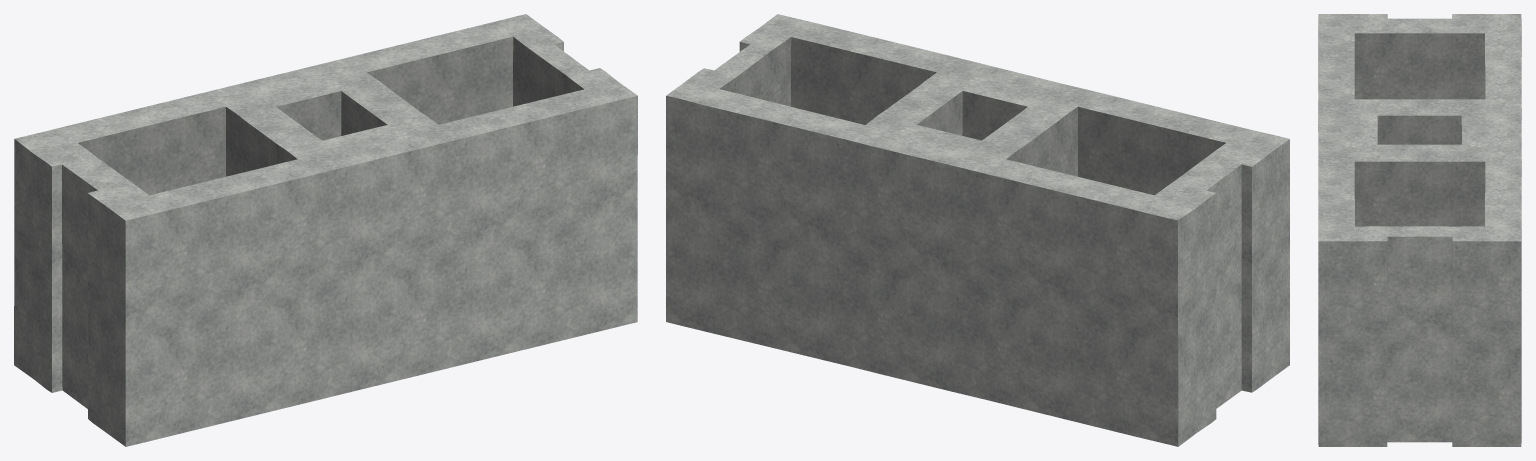
The model's file is cement-block-large-small-large-3-void-bigger.glb.
3 renders of one model, left to right at view 1: azimuth 30°, elevation 25°; view 2: azimuth 150°, elevation 25°; view 3: azimuth 270°, elevation 25°, orthographic. The views are drawn at different scales.
Parts seen in each view (by area): view 1: cement-block-large-small-large-3-void-bigger; view 2: cement-block-large-small-large-3-void-bigger; view 3: cement-block-large-small-large-3-void-bigger.
Part boxes in pixels (x1,y1,x2,y2): cement-block-large-small-large-3-void-bigger: (14, 14, 637, 446); cement-block-large-small-large-3-void-bigger: (666, 14, 1289, 446); cement-block-large-small-large-3-void-bigger: (1318, 14, 1521, 446).
Bounding box in the file's own units: 0.4504 × 0.1904 × 0.1703.
1 material, 1 textured.
